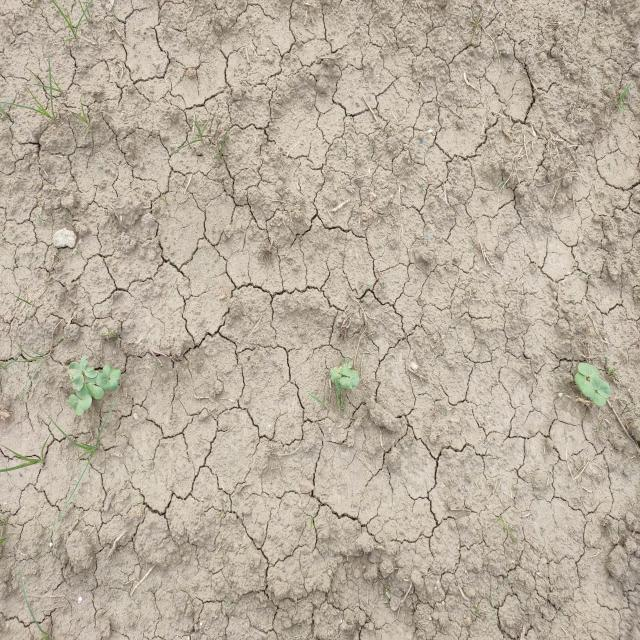seedling: (575, 373, 595, 397), (590, 375, 610, 398), (75, 383, 92, 410), (69, 361, 84, 391), (96, 373, 118, 391), (80, 355, 97, 378), (577, 362, 600, 378), (102, 364, 121, 381), (69, 395, 84, 416), (87, 383, 104, 400), (340, 376, 360, 389), (590, 391, 606, 406), (342, 366, 358, 377), (329, 365, 345, 376), (331, 372, 346, 383), (341, 358, 353, 368)
